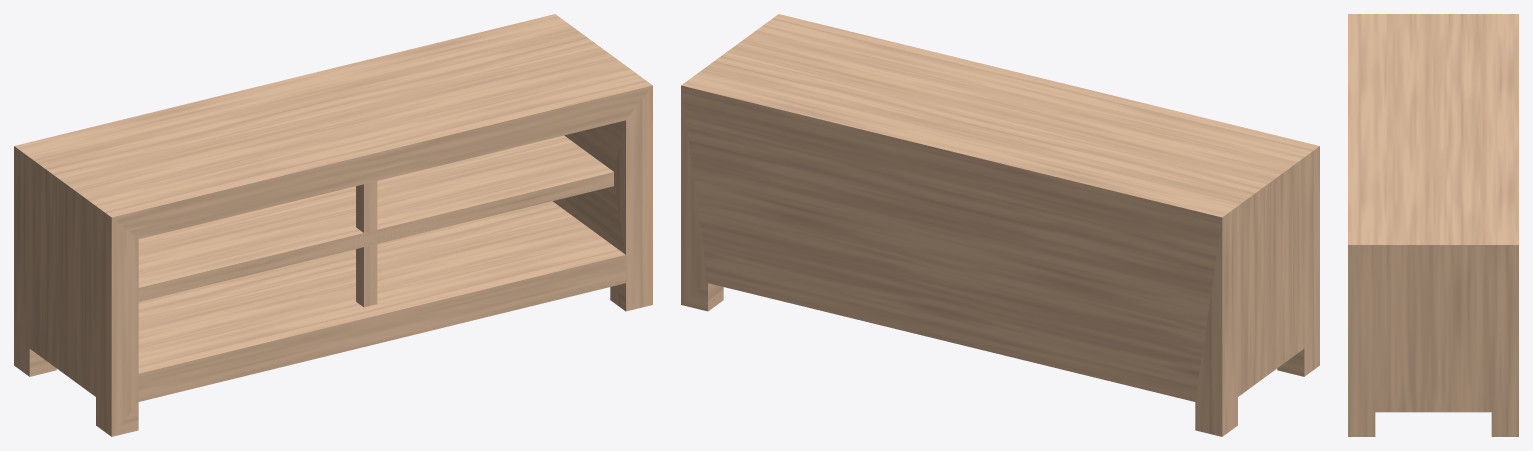
File: cabinetTelevision.glb
3 renders of one model, left to right at view 1: azimuth 30°, elevation 25°; view 2: azimuth 150°, elevation 25°; view 3: azimuth 270°, elevation 25°, orthographic. The views are drawn at different scales.
Visible parts, largest first — view 1: cabinetTelevision; view 2: cabinetTelevision; view 3: cabinetTelevision.
Boxes of the visible parts, x1,y1,x2,y2 form: cabinetTelevision: (14,14,652,436); cabinetTelevision: (681,14,1319,436); cabinetTelevision: (1348,14,1518,436).
Size of the model in its own units: 0.8 by 0.31 by 0.25.
1 material, 1 textured.
